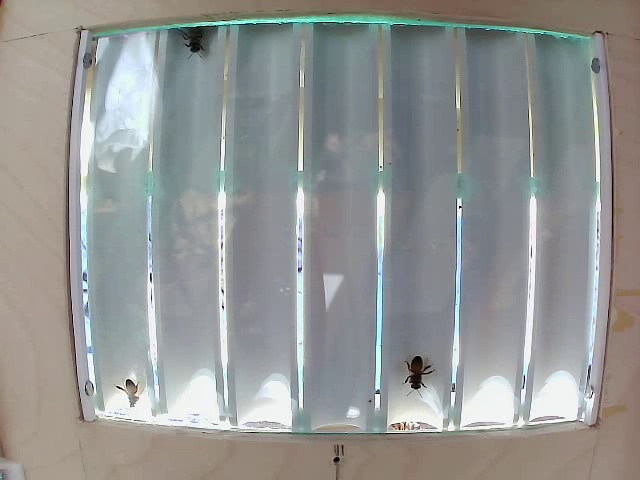bee: (179, 16, 239, 76), (400, 342, 450, 390)
